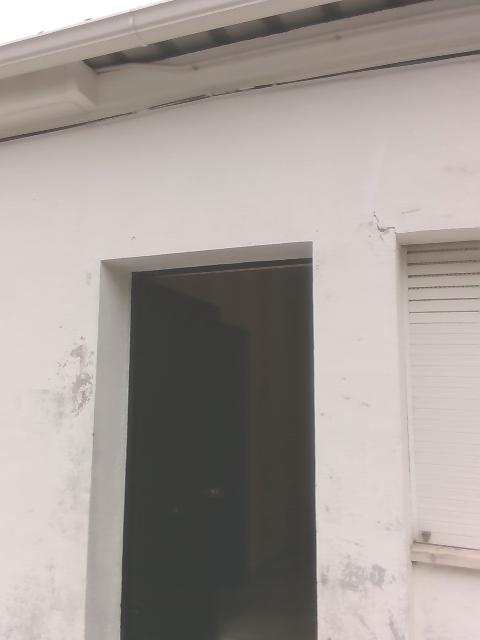open_door: (72, 233, 315, 639)
